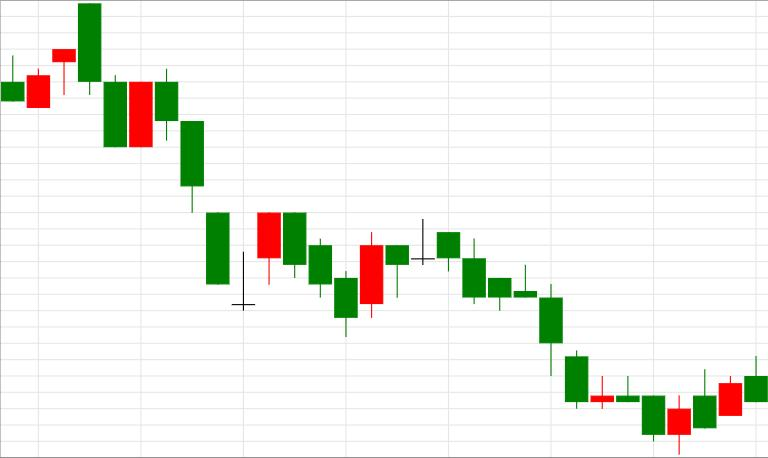morning_star_rise: (79, 3, 281, 310)
